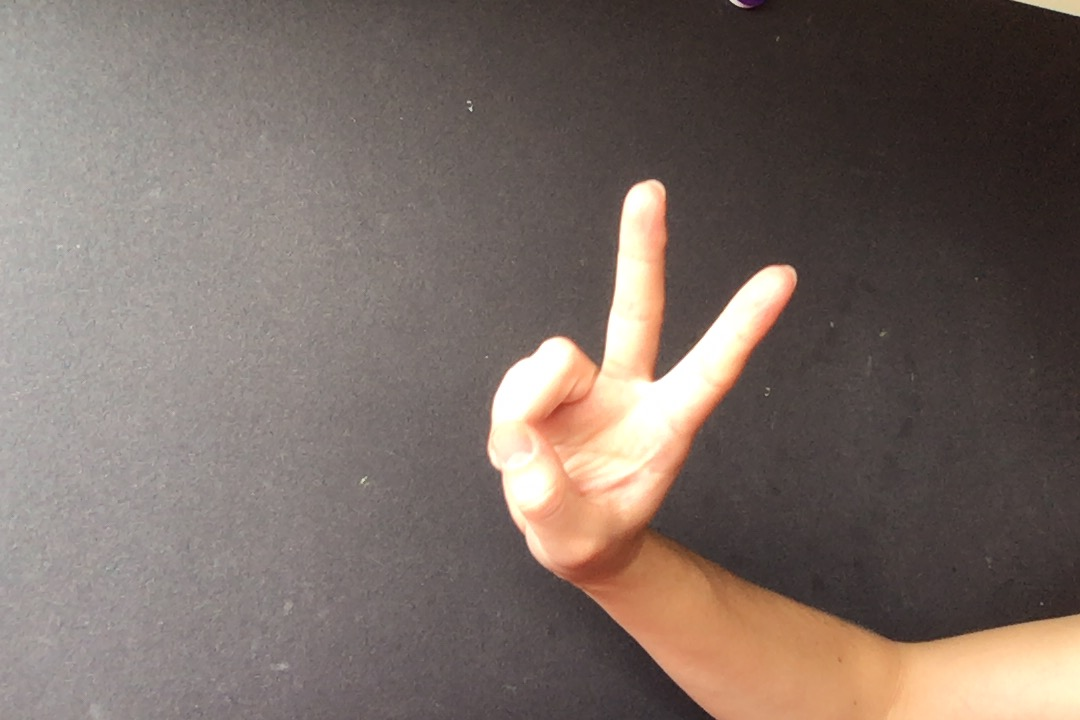peacesign: (478, 174, 803, 593)
